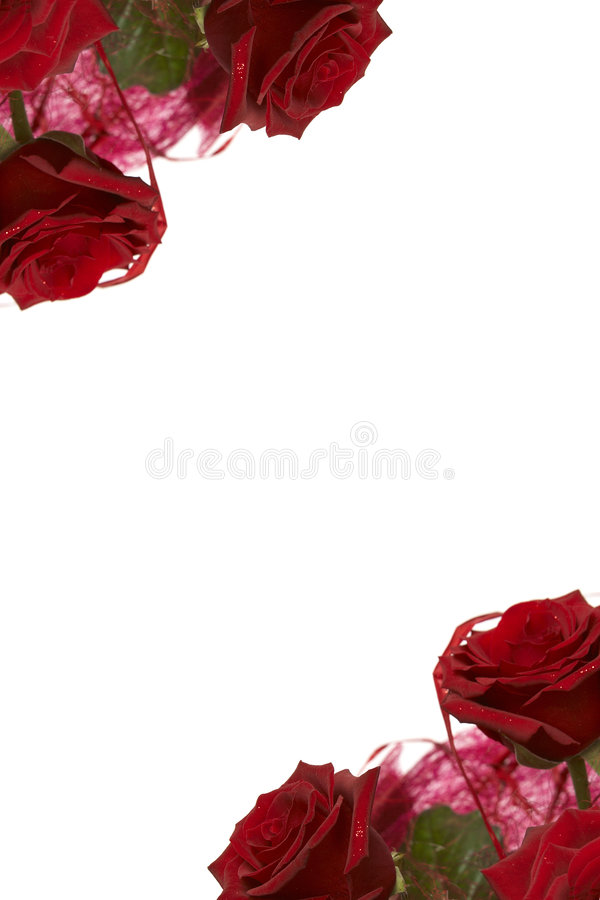RedRose: (398, 556, 600, 798), (195, 720, 433, 900), (137, 9, 422, 158), (4, 108, 187, 338)
